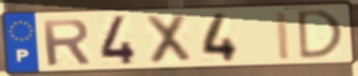4: (199, 11, 242, 64), (98, 14, 139, 68)
D: (296, 8, 346, 62)
I: (273, 10, 294, 63)
R: (38, 17, 93, 68)
X: (143, 12, 195, 66)
